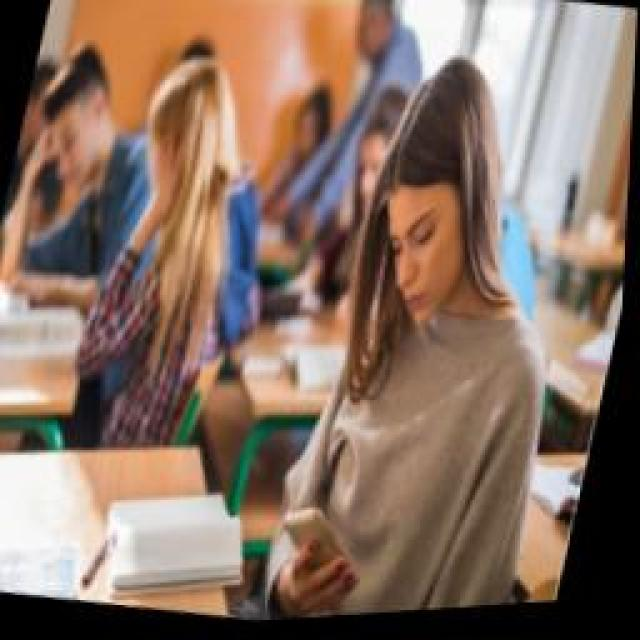phone: (262, 37, 628, 625)
study: (0, 33, 155, 375)
